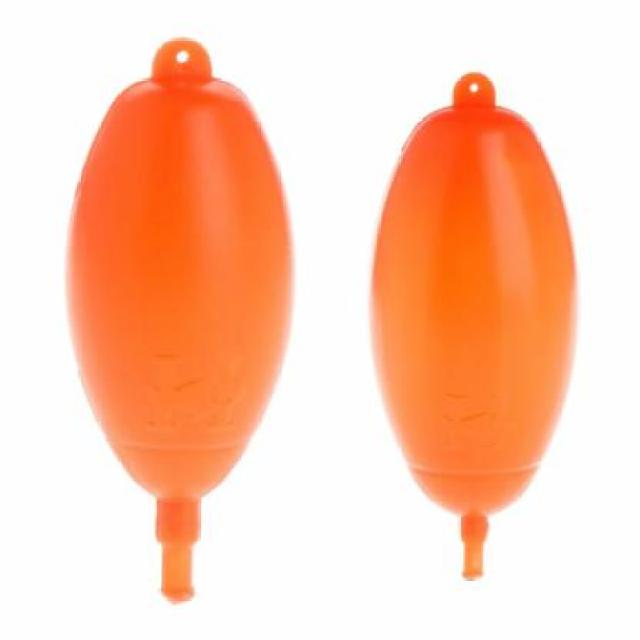a: (63, 28, 300, 611), (386, 81, 558, 593), (39, 28, 323, 311), (346, 74, 607, 362), (123, 31, 245, 123), (417, 65, 517, 149)
